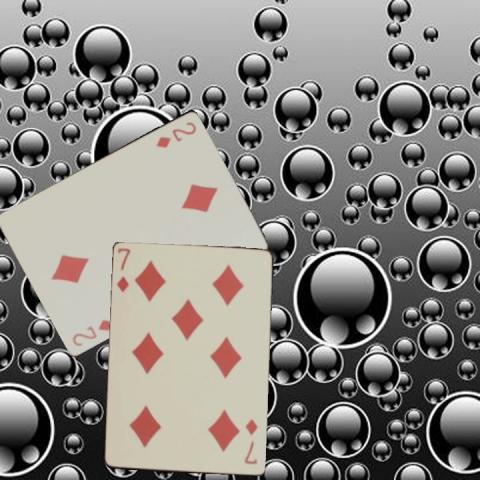2d: (69, 316, 115, 347), (153, 118, 198, 149)
7d: (241, 416, 260, 466), (114, 245, 132, 295)
